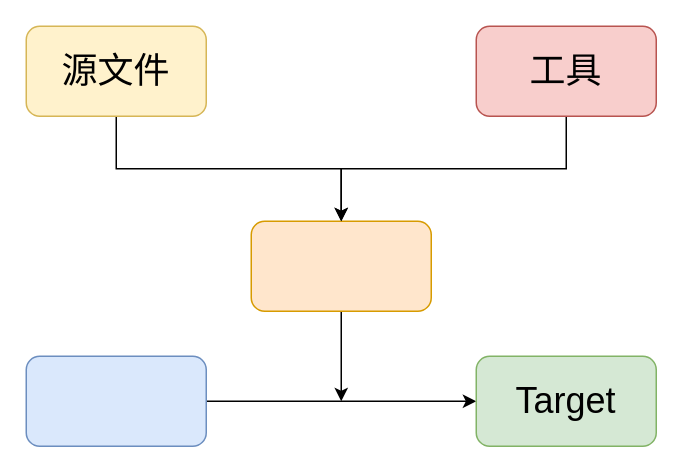
This 683x473 diagram has some shape labels left out. The box of each missing label's shape, as (x1, y1, x2, y2) in pixels:
make: (25, 355, 206, 446)
Makefile: (250, 220, 431, 311)
